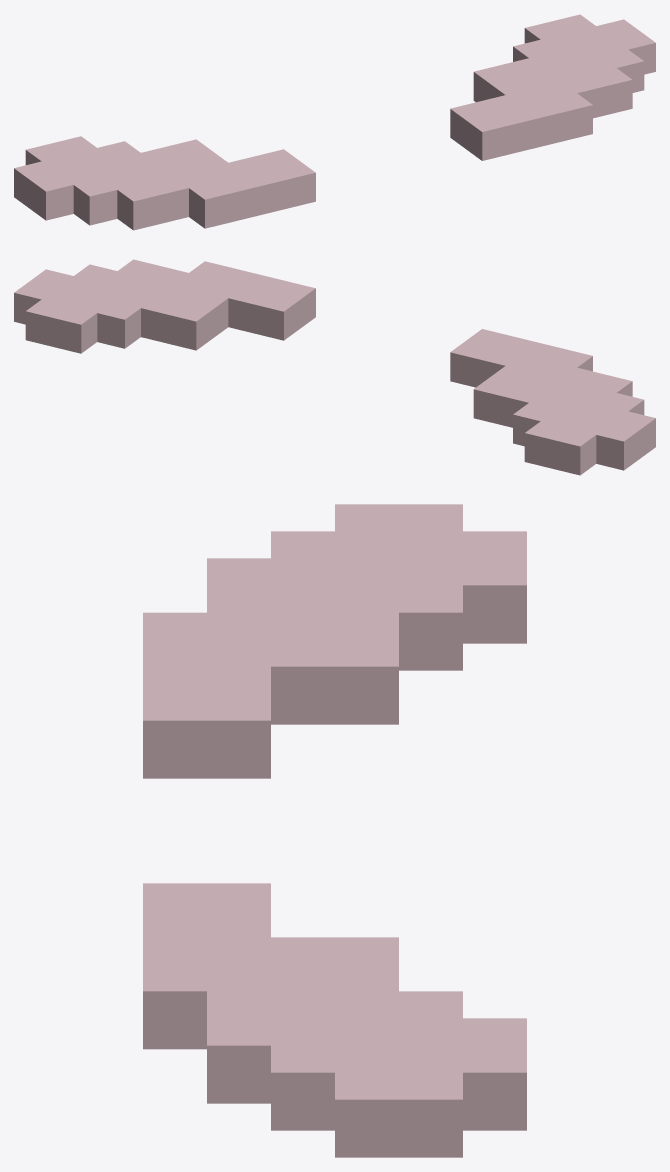
Rendered from toriAM.obj.
The picture shows the model from 3 angles, top to bottom: view 1: azimuth 30°, elevation 25°; view 2: azimuth 150°, elevation 25°; view 3: azimuth 270°, elevation 25°; orthographic projection. The views are drawn at different scales.
Parts seen in each view (by area): view 1: 立方体.013; view 2: 立方体.013; view 3: 立方体.013.
Part boxes in pixels (x1=…): 立方体.013: x1=14, y1=14, x2=655, y2=230; 立方体.013: x1=14, y1=259, x2=655, y2=475; 立方体.013: x1=143, y1=504, x2=526, y2=1157.
Bounding box in the file's own units: 6.16 × 0.28 × 1.68.
